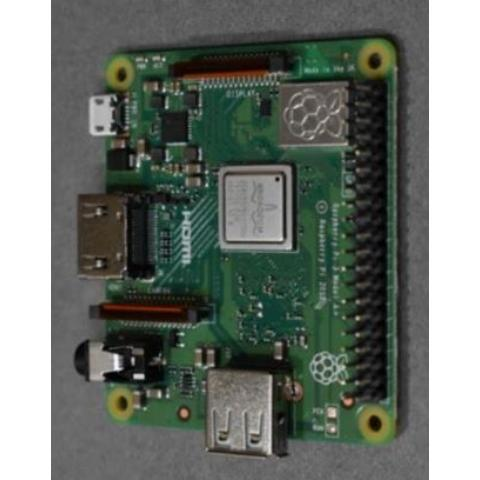Raspberry-Pi-3-Model-A-: (64, 25, 412, 469)
